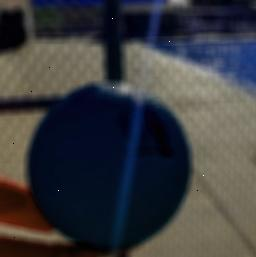algae: (23, 80, 195, 253)
